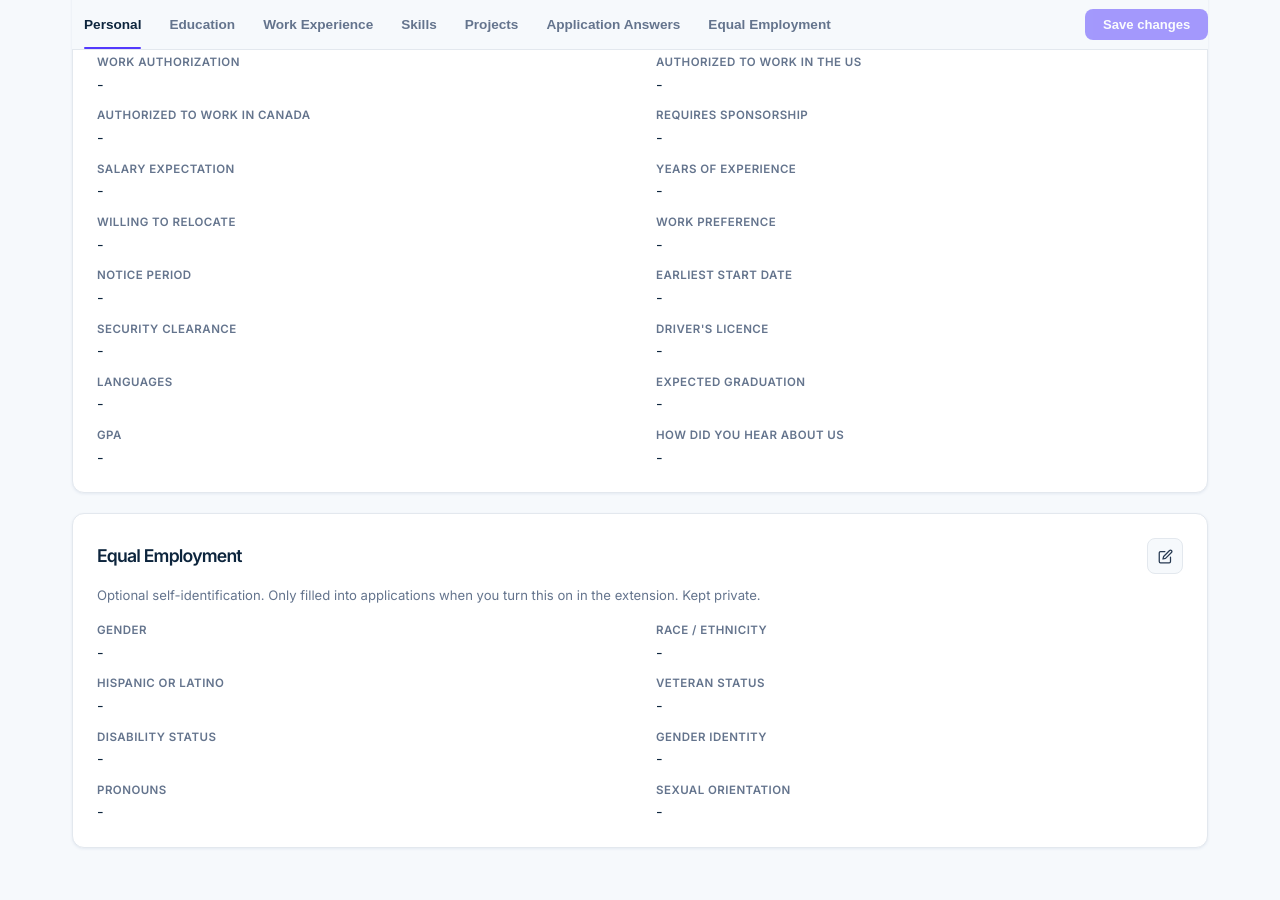
Test: Profile: parity-contract fields › renders every Equal Employment label from the contract
(page scrolled)
Click the button named "Edit equal employment" at (1165, 556), box [1147,538,1183,574]
(page scrolled)
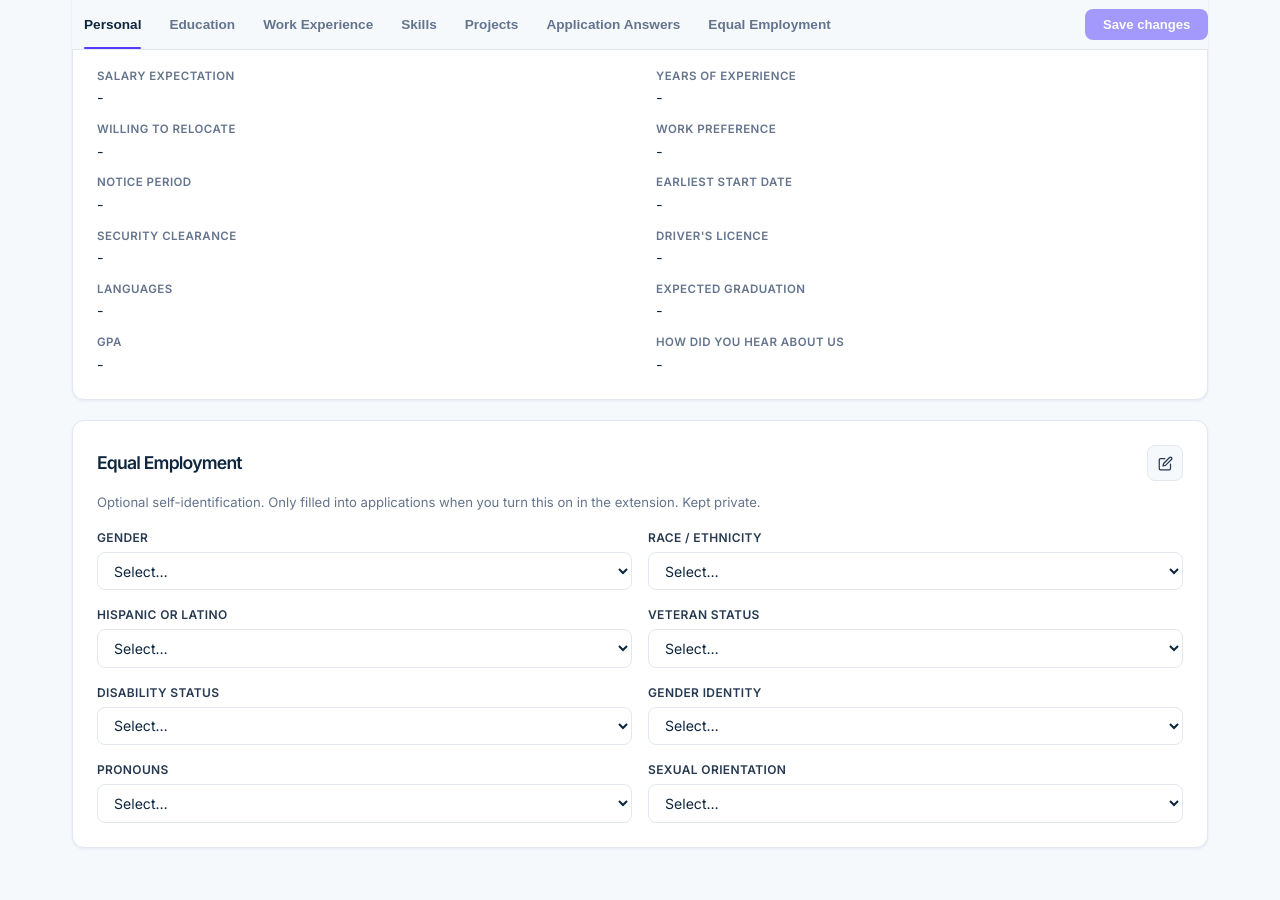
Expected: the 1st dropdown is shown, [97,552,632,590]
Expected: the dropdown below "Race / Ethnicity" is shown, [648,552,1183,590]
Expected: the dropdown below "Hispanic or Latino" is shown, [97,629,632,668]
